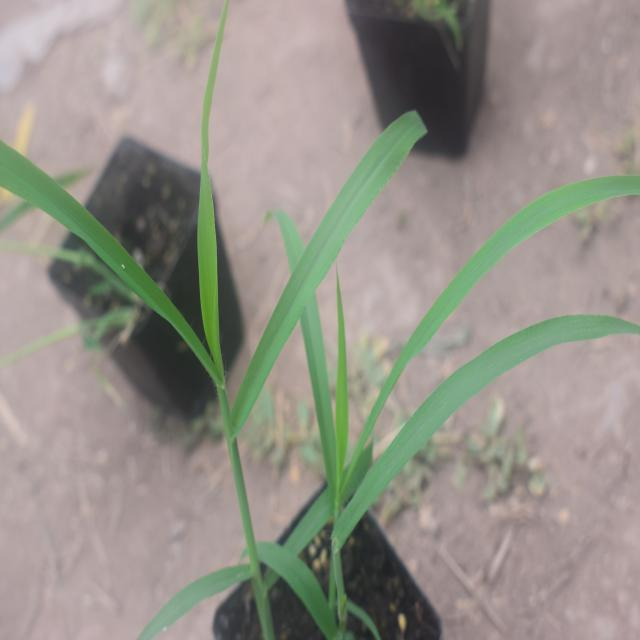crabgrass: (16, 60, 603, 529)
